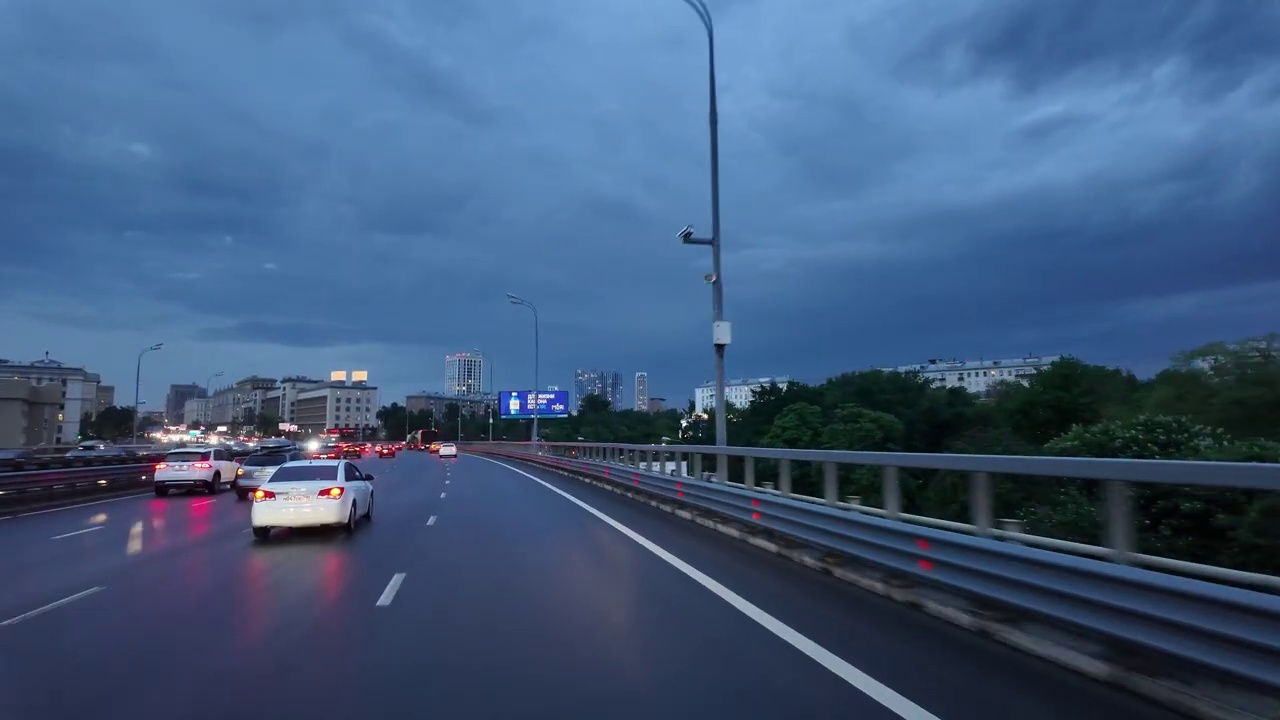apagada: (676, 227, 707, 252)
